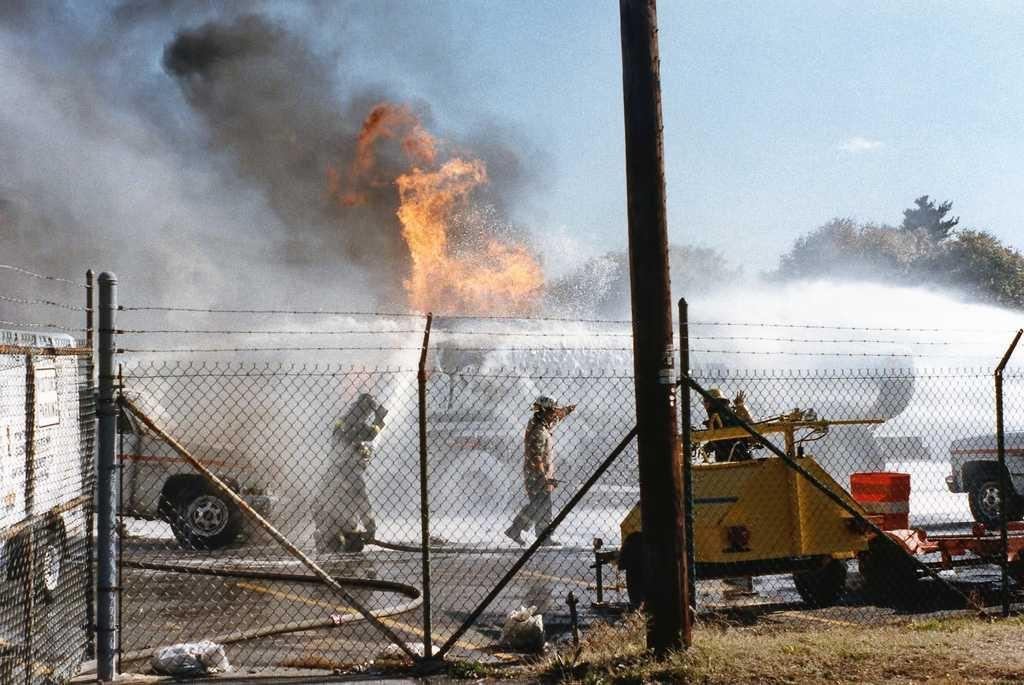fire: (376, 166, 558, 325)
smoke: (18, 53, 326, 297)
